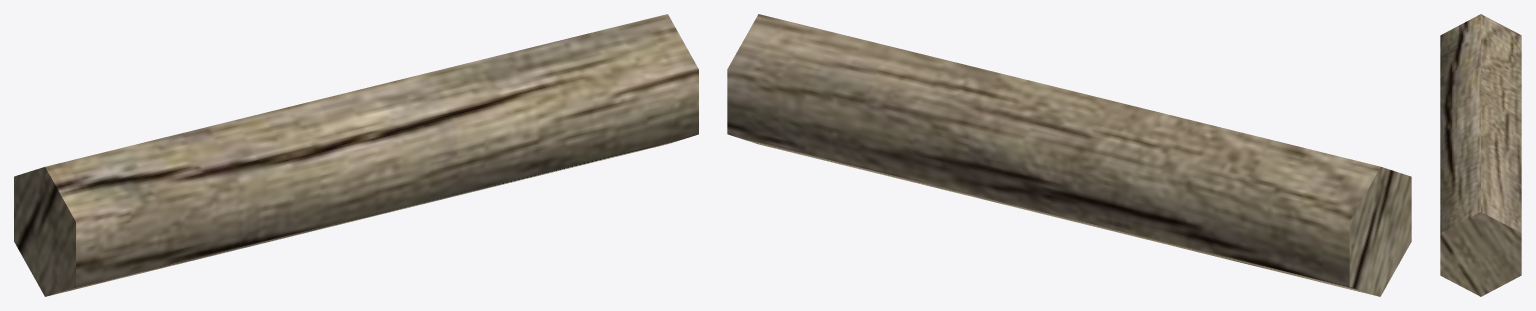
File: Emmer-Handvat.dae
3 views of the same model, side by side, from view 1: azimuth 30°, elevation 25°; view 2: azimuth 150°, elevation 25°; view 3: azimuth 270°, elevation 25° (orthographic). The views are drawn at different scales.
Visible parts, largest first — view 1: mesh0%root%0%; view 2: mesh0%root%0%; view 3: mesh0%root%0%.
Boxes of the visible parts, x1,y1,x2,y2 form: mesh0%root%0%: [14, 14, 698, 296]; mesh0%root%0%: [727, 14, 1411, 296]; mesh0%root%0%: [1440, 14, 1521, 296].
Size of the model in its own units: 0.1 by 0.0201 by 0.0173.
